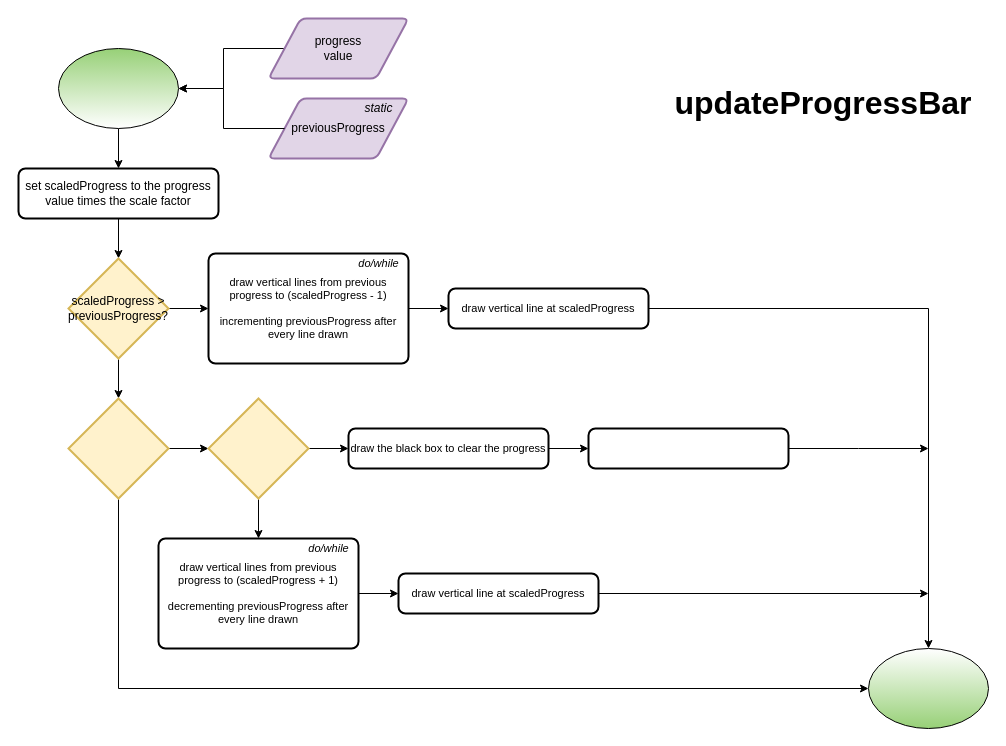
Image size: 1006x746. Some labels were removed from this diagram. The centre of each missing label's shape, as x and y in pixels:
END: pixel 928 688
scaledProgress < previousProgress?: pixel 118 448
scaledProgress = 0?: pixel 258 448
set previousProgress to scaledProgress: pixel 688 448
START: pixel 118 88
